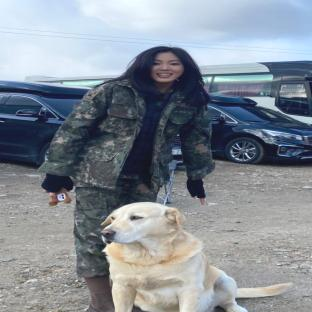Animal: (100, 202, 290, 312)
Human: (39, 46, 214, 312)
